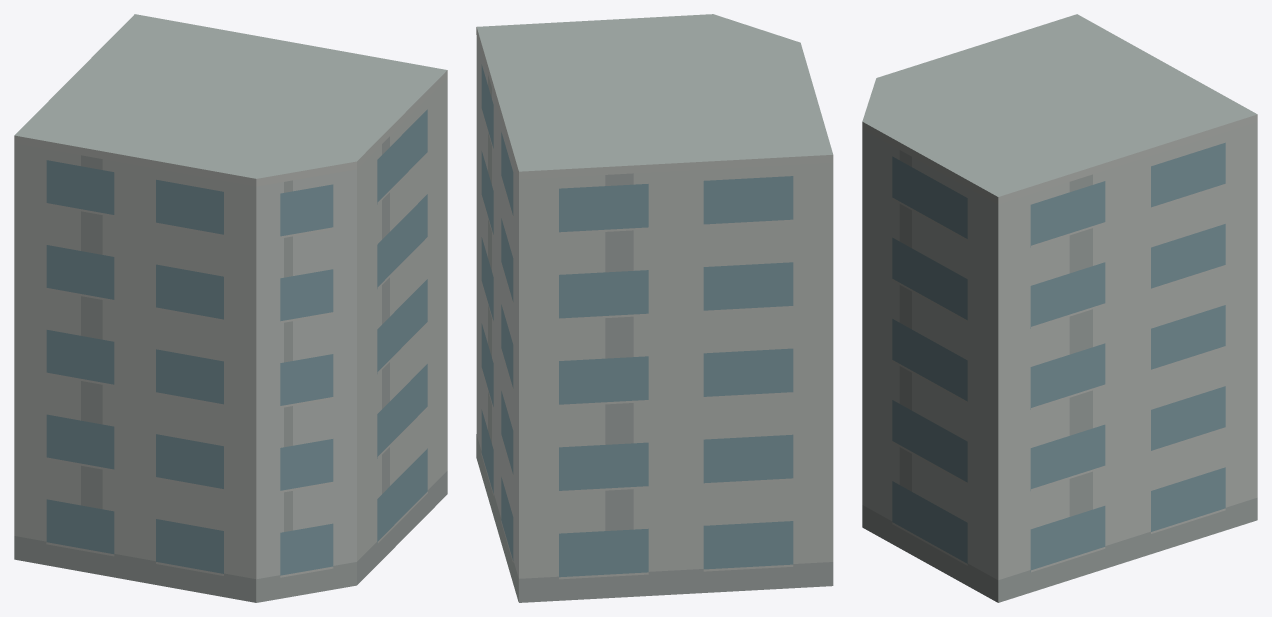
File: residential-1289a58f-38cd-4820-be8b-e3dacb231129.glb
The picture shows the model from 3 angles, left to right: view 1: azimuth 30°, elevation 25°; view 2: azimuth 150°, elevation 25°; view 3: azimuth 270°, elevation 25°; orthographic projection. The views are drawn at different scales.
Visible parts, largest first — view 1: residential-1289a58f-38cd-4820-be8b-e3dacb231129.tmp; view 2: residential-1289a58f-38cd-4820-be8b-e3dacb231129.tmp; view 3: residential-1289a58f-38cd-4820-be8b-e3dacb231129.tmp.
Boxes of the visible parts, <box> form: residential-1289a58f-38cd-4820-be8b-e3dacb231129.tmp: <box>14,14,447,602</box>; residential-1289a58f-38cd-4820-be8b-e3dacb231129.tmp: <box>476,14,833,602</box>; residential-1289a58f-38cd-4820-be8b-e3dacb231129.tmp: <box>862,14,1257,602</box>.
Size of the model in its own units: 12.78 by 13.2 by 11.67.
